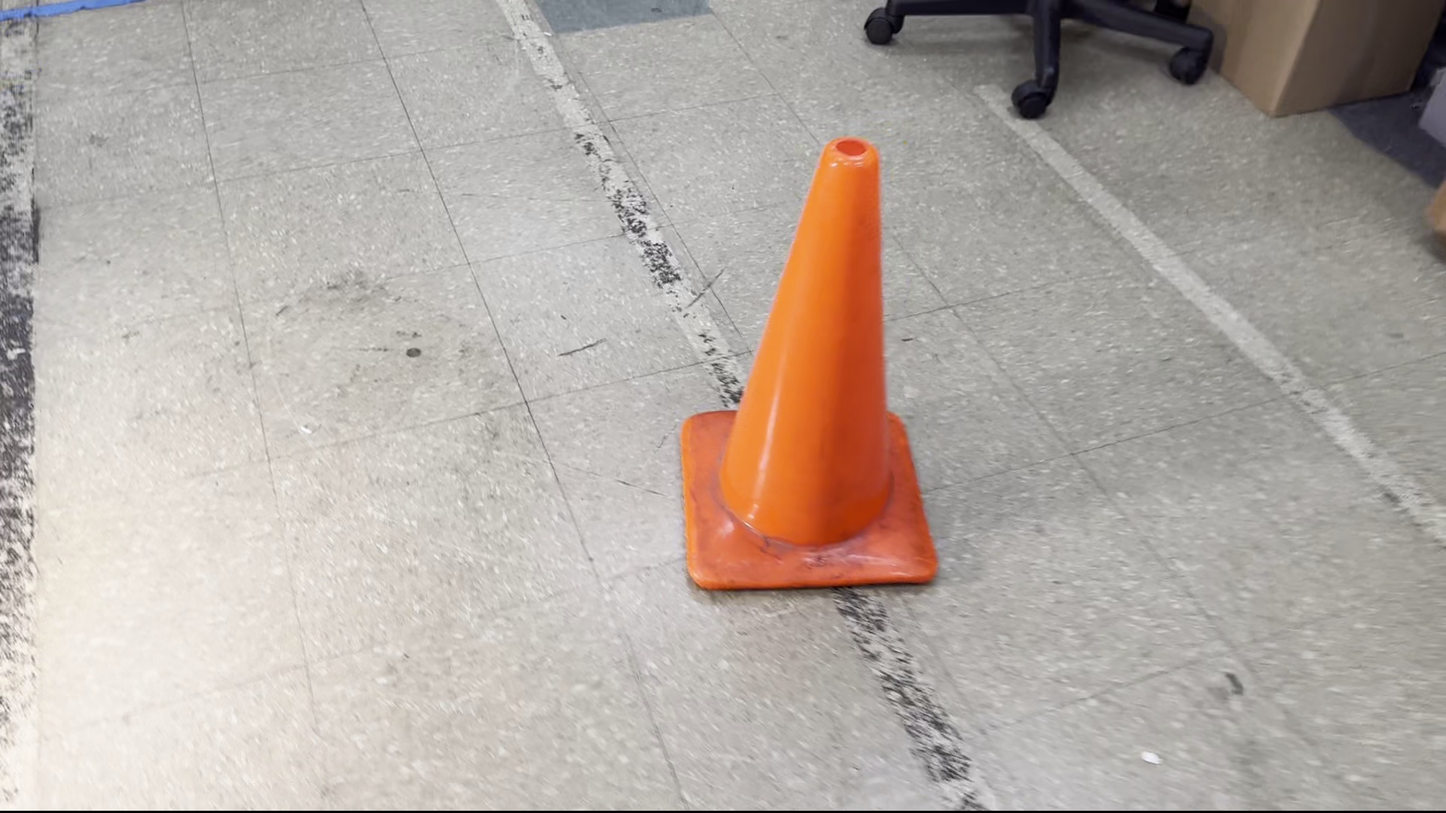traffic_cone: (679, 135, 939, 591)
